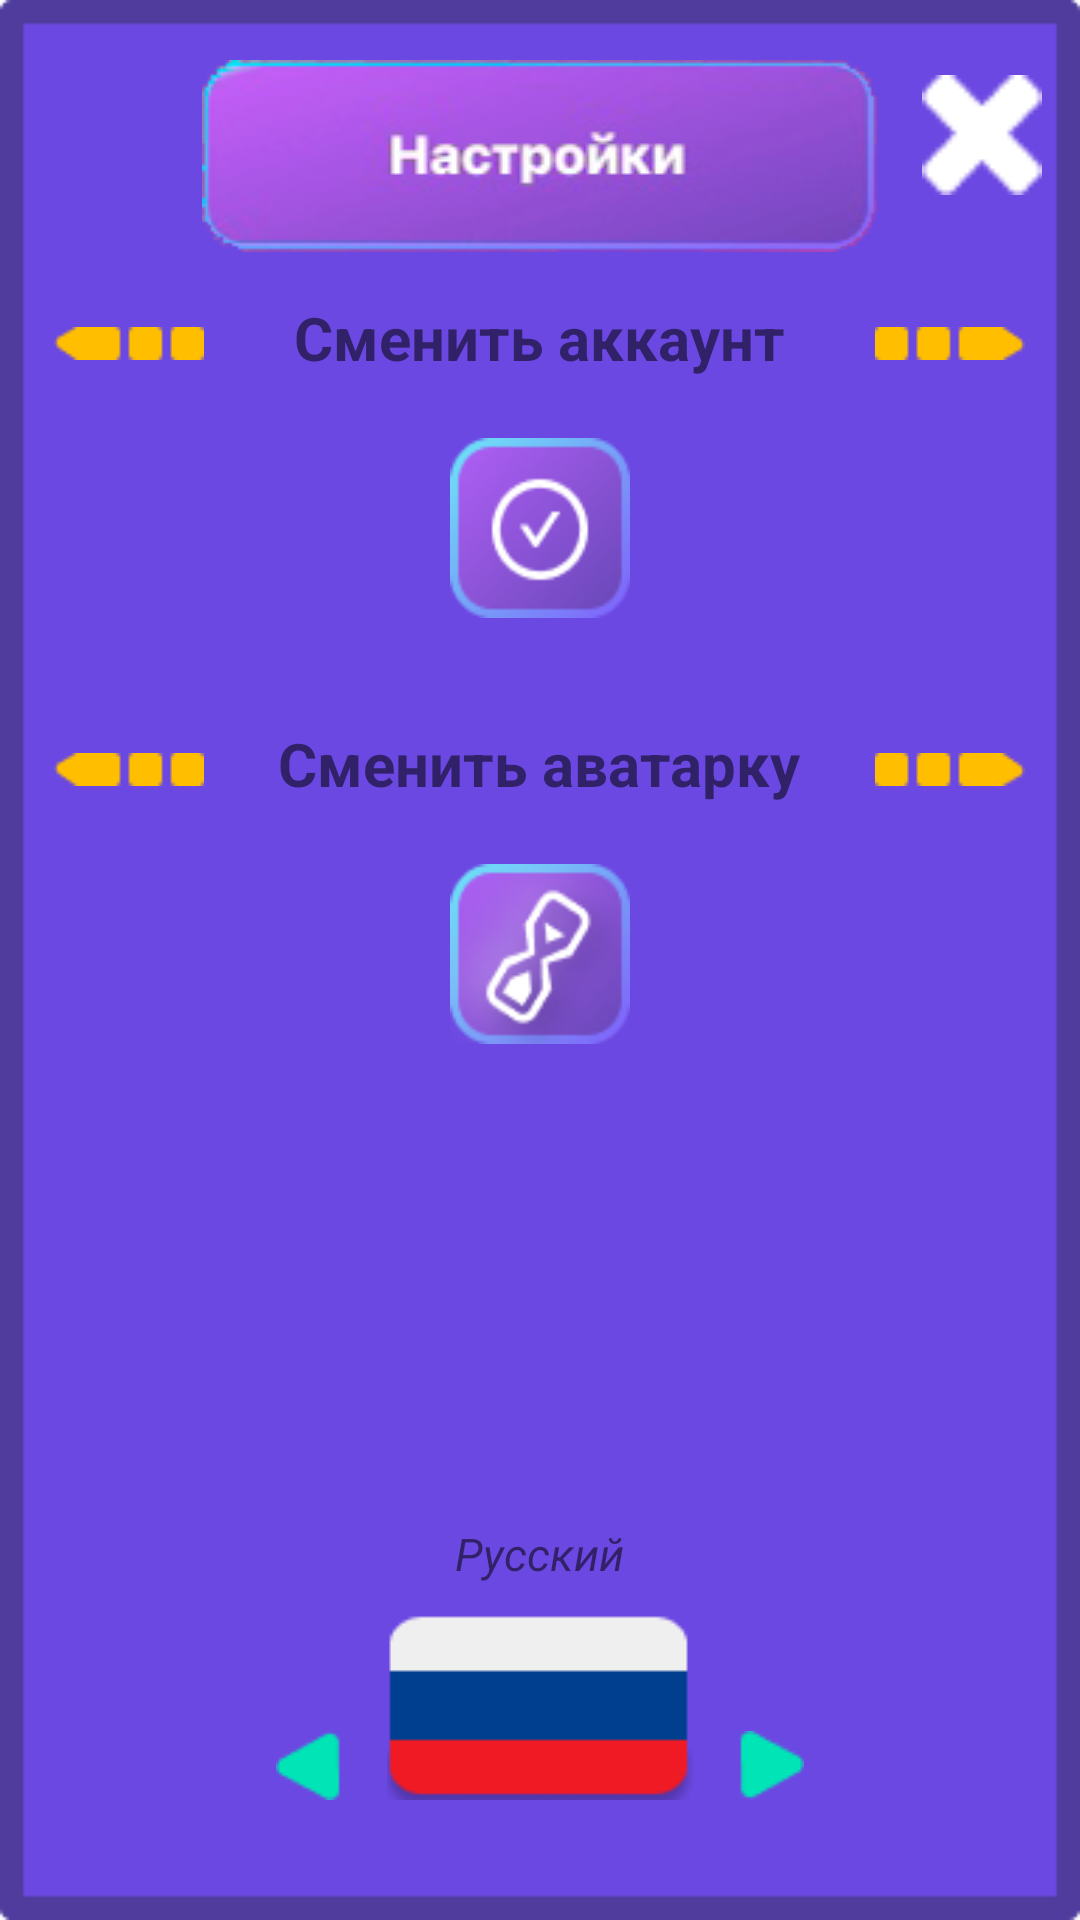

Locate icon controls on the screen. Image size 1080 × 1920, boxes as (x1, y1, x2, y2).
setting choose left: (276, 1733, 340, 1800)
setting choose right: (740, 1731, 804, 1798)
setting close: (922, 75, 1042, 195)
setting time game: (450, 864, 630, 1044)
settings left: (54, 327, 204, 360), (54, 753, 204, 786)
settings right: (875, 327, 1025, 360), (875, 753, 1025, 786)
